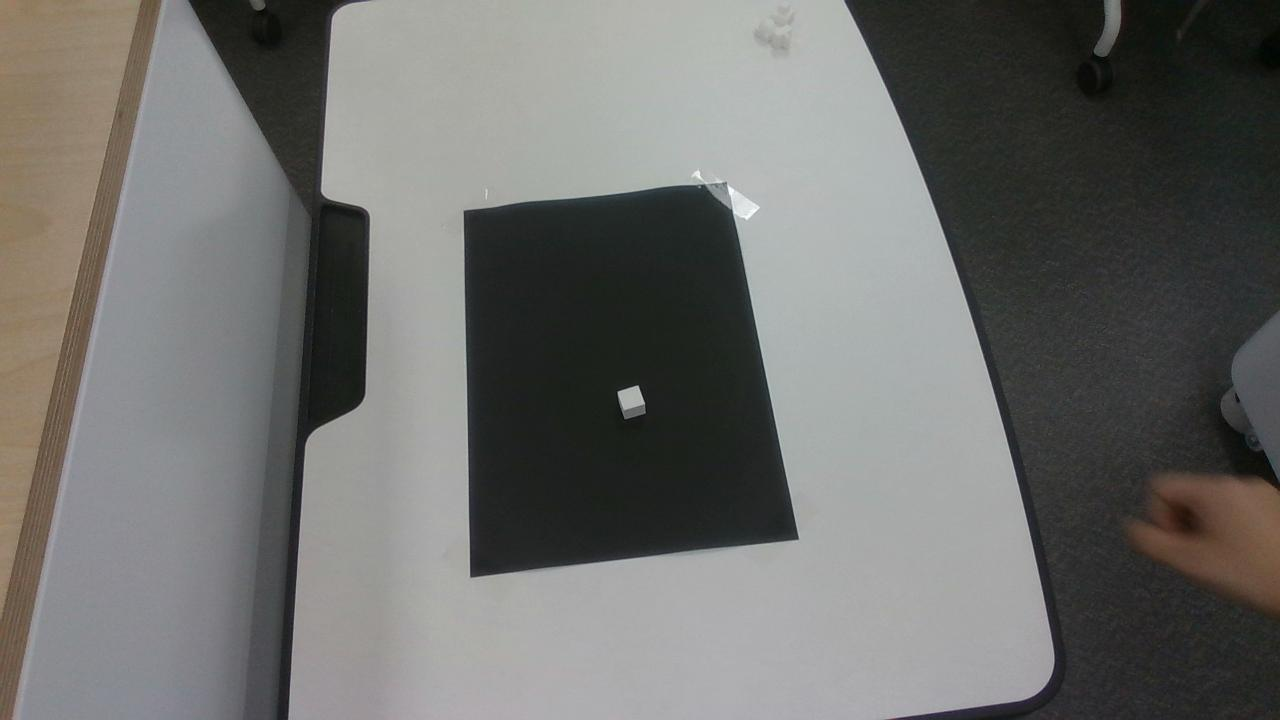cube: (617, 385, 645, 418)
